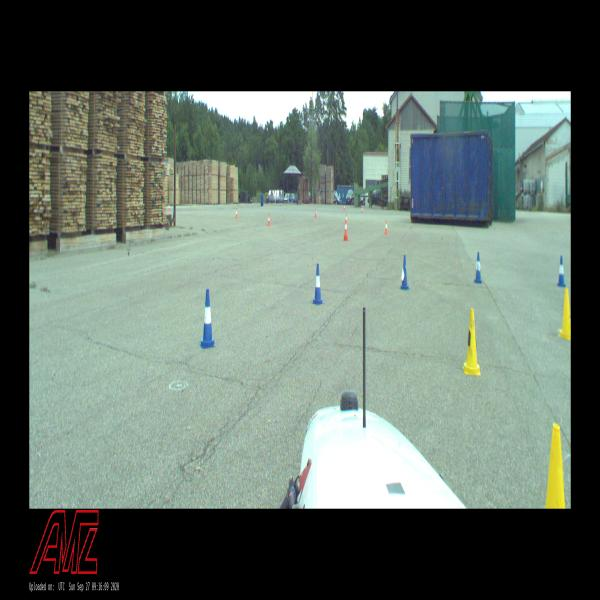blue_cone: (200, 289, 215, 348), (312, 263, 323, 304), (400, 256, 409, 290), (474, 252, 482, 282), (557, 256, 565, 286)
orange_cone: (344, 220, 348, 237), (385, 220, 388, 234), (267, 214, 270, 226), (345, 213, 348, 225), (235, 208, 238, 218), (315, 209, 317, 218)
yellow_cone: (463, 309, 481, 376), (558, 288, 570, 339)
